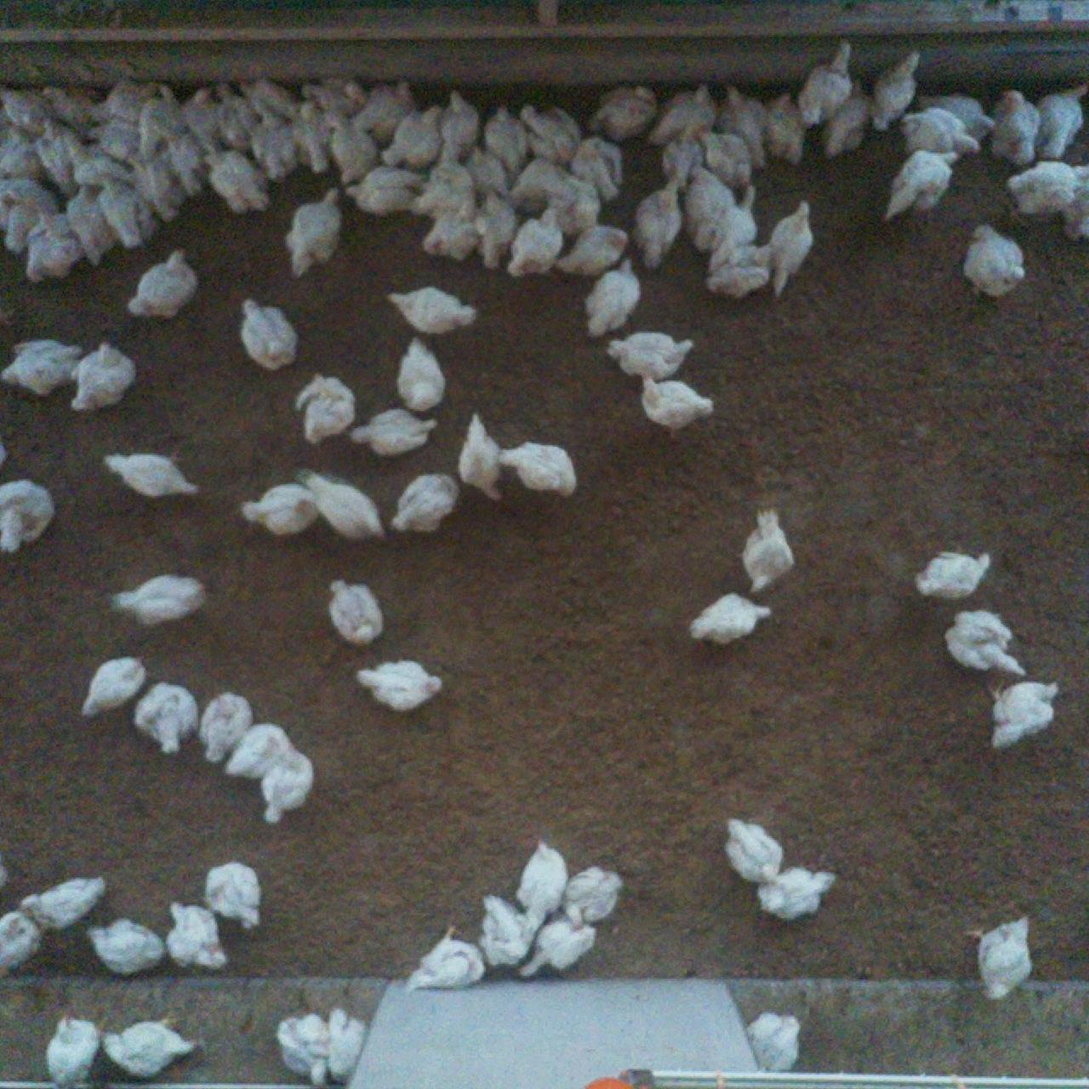chicken: (99, 1014, 208, 1081), (962, 914, 1039, 1008), (296, 468, 389, 541), (402, 922, 489, 996), (936, 607, 1027, 677), (978, 678, 1062, 753), (792, 34, 855, 132), (110, 567, 210, 628), (732, 506, 800, 595), (636, 371, 720, 442), (285, 187, 347, 282), (98, 446, 201, 503), (883, 148, 959, 225), (123, 247, 201, 322), (16, 873, 108, 936), (959, 222, 1032, 300), (513, 833, 571, 931), (704, 182, 763, 278), (599, 330, 699, 386), (292, 367, 362, 446), (761, 197, 815, 299), (748, 866, 841, 925), (0, 335, 85, 399), (681, 164, 737, 260), (517, 915, 597, 982), (38, 1008, 103, 1089), (68, 339, 139, 413), (129, 680, 198, 756), (868, 47, 926, 137), (582, 258, 644, 342), (352, 656, 443, 713), (1005, 157, 1086, 221), (645, 79, 722, 146), (684, 591, 775, 647), (501, 202, 568, 278), (87, 917, 171, 977), (630, 176, 683, 271), (204, 142, 272, 216), (701, 234, 775, 302), (1032, 78, 1089, 165), (386, 471, 461, 537), (273, 1008, 334, 1089), (238, 479, 323, 537), (477, 891, 539, 970), (814, 79, 873, 162), (498, 439, 580, 498), (78, 650, 148, 719), (162, 901, 228, 974), (911, 87, 1000, 141), (121, 147, 184, 223), (94, 172, 156, 249), (385, 284, 482, 333), (324, 110, 383, 190), (0, 474, 58, 555), (343, 164, 428, 219), (64, 181, 117, 269), (910, 548, 998, 601), (392, 333, 448, 416), (256, 741, 312, 824), (895, 107, 981, 161), (456, 411, 507, 502), (33, 113, 85, 202), (195, 688, 255, 765), (986, 87, 1043, 168), (351, 405, 439, 457), (422, 198, 487, 268), (721, 816, 785, 887), (326, 574, 387, 648), (712, 84, 767, 166), (235, 299, 299, 369), (21, 208, 79, 285), (552, 222, 629, 280), (480, 99, 533, 183), (379, 104, 445, 171), (353, 75, 416, 144), (587, 80, 661, 138), (198, 860, 262, 927), (0, 177, 53, 255), (85, 73, 166, 124), (322, 1007, 373, 1088), (746, 1007, 805, 1077), (412, 156, 478, 218), (248, 105, 299, 185), (561, 863, 626, 925), (221, 721, 287, 781), (151, 124, 205, 197), (438, 85, 486, 167), (691, 126, 754, 188), (289, 97, 337, 178), (568, 133, 623, 203), (757, 90, 809, 164), (471, 190, 517, 273), (83, 114, 151, 169), (509, 154, 570, 215), (538, 171, 600, 231), (44, 78, 100, 142), (458, 140, 513, 202), (298, 71, 369, 119), (137, 85, 182, 160), (661, 120, 706, 195), (175, 80, 220, 154), (214, 80, 259, 153), (0, 903, 44, 977), (231, 68, 293, 120), (522, 102, 579, 157), (67, 134, 121, 188), (0, 83, 58, 132), (1060, 161, 1089, 248), (0, 126, 43, 178)
